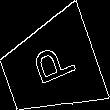P_W: (24, 41, 78, 93)
